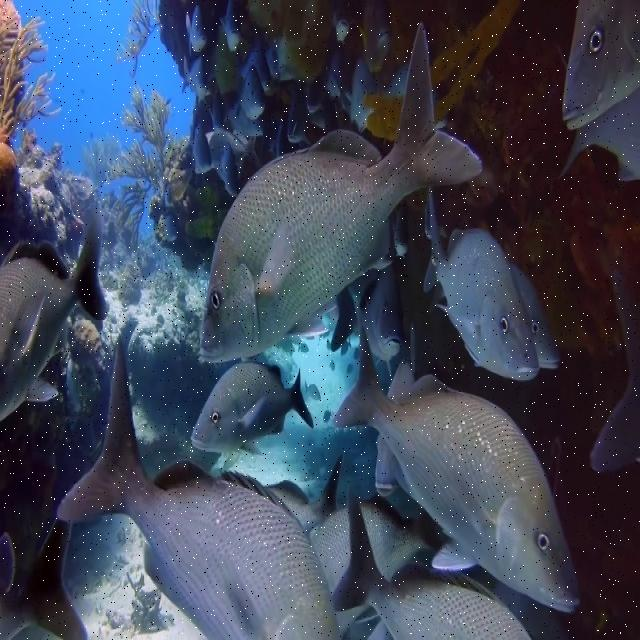fish: (198, 21, 480, 367), (57, 338, 342, 639), (328, 335, 578, 613), (334, 493, 527, 639), (0, 207, 110, 421), (426, 193, 539, 383), (193, 361, 314, 453), (564, 0, 639, 129), (364, 498, 443, 579), (315, 509, 350, 590)
reefs: (81, 86, 190, 249), (0, 0, 65, 140), (117, 0, 163, 76)
